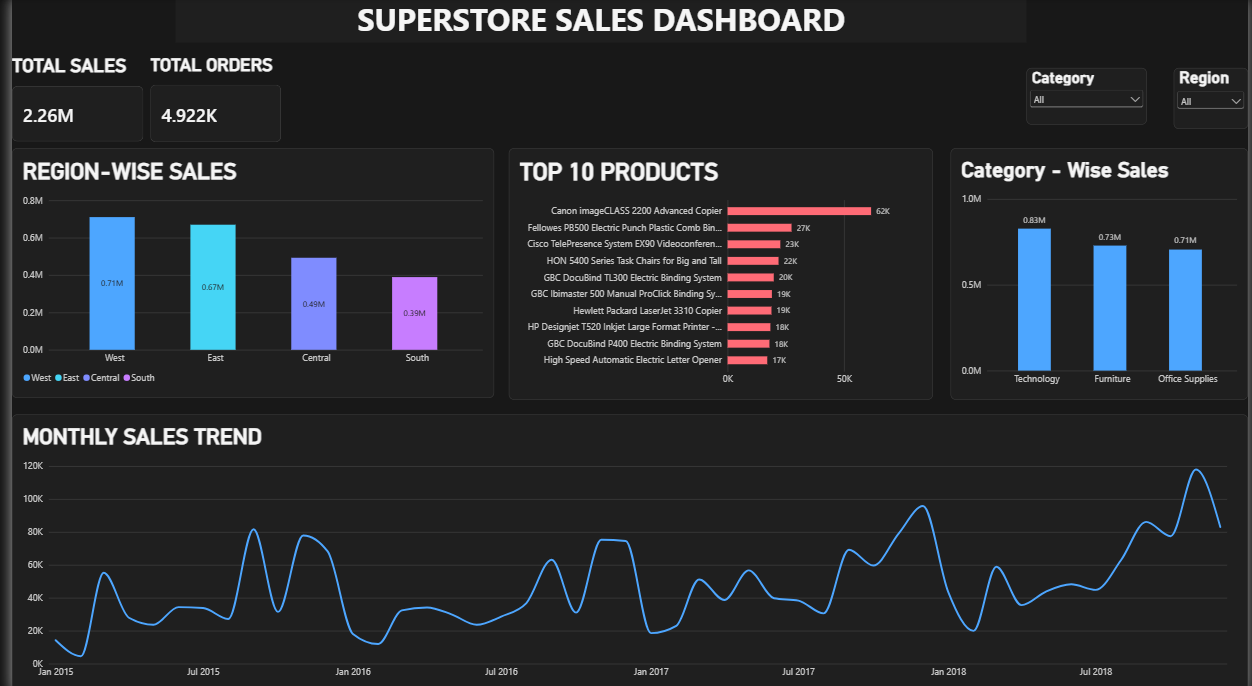

The dashboard page shown, as its layout file describes it:
{"tool":"powerbi","page":{"name":"Page 1","canvas":[1920,1080],"ordinal":0},"visuals":[{"type":"cardVisual","title":"TOTAL SALES","fields":{"Data":["Sum(Superstore_Sales.Sales)"]},"box":[0,87.8,205,135],"z":0},{"type":"cardVisual","title":"TOTAL ORDERS","fields":{"Data":["Count(Superstore_Sales.Order ID)"]},"box":[214.9,87.8,203.5,136.6],"z":1},{"type":"columnChart","title":"REGION-WISE SALES","fields":{"Category":["Superstore_Sales.Region"],"Series":["Superstore_Sales.Region"],"Y":["Sum(Superstore_Sales.Sales)"]},"box":[0,233.4,748.7,388.2],"z":2},{"type":"lineChart","title":"MONTHLY SALES TREND","fields":{"Category":["Superstore_Sales.Order Date.Variation.Date Hierarchy.Year","Superstore_Sales.Order Date.Variation.Date Hierarchy.Month"],"Y":["Sum(Superstore_Sales.Sales)"]},"box":[0,647,1920.2,432.1],"z":3},{"type":"clusteredBarChart","title":"TOP 10 PRODUCTS","fields":{"Category":["Superstore_Sales.Product Name"],"Y":["Sum(Superstore_Sales.Sales)"]},"box":[771.8,233.4,658.5,390.5],"z":4},{"type":"slicer","fields":{"Values":["Superstore_Sales.Region"]},"box":[1804.7,108.6,115.5,94.7],"z":5},{"type":"slicer","fields":{"Values":["Superstore_Sales.Category"]},"box":[1575.9,108.6,187.2,87.8],"z":6},{"type":"textbox","box":[254.2,0,1321.7,69.3],"z":7},{"type":"columnChart","title":"Category - Wise Sales","fields":{"Category":["Superstore_Sales.Category"],"Y":["Sum(Superstore_Sales.Sales)"]},"box":[1458.1,233.4,462.1,390.5],"z":8}]}

Visuals, with their boxes in screenshot pixels (x1, y1, x2, y2), scaled from the page's 1920x1080 canvas onto the 1252x686 screenshot:
"TOTAL SALES" cardVisual: 0,56,134,142
"TOTAL ORDERS" cardVisual: 140,56,273,143
"REGION-WISE SALES" columnChart: 0,148,488,395
"MONTHLY SALES TREND" lineChart: 0,411,1251,685
"TOP 10 PRODUCTS" clusteredBarChart: 503,148,933,396
slicer - Superstore_Sales.Region: 1177,69,1251,129
slicer - Superstore_Sales.Category: 1028,69,1150,125
textbox: 166,0,1028,44
"Category - Wise Sales" columnChart: 951,148,1251,396
